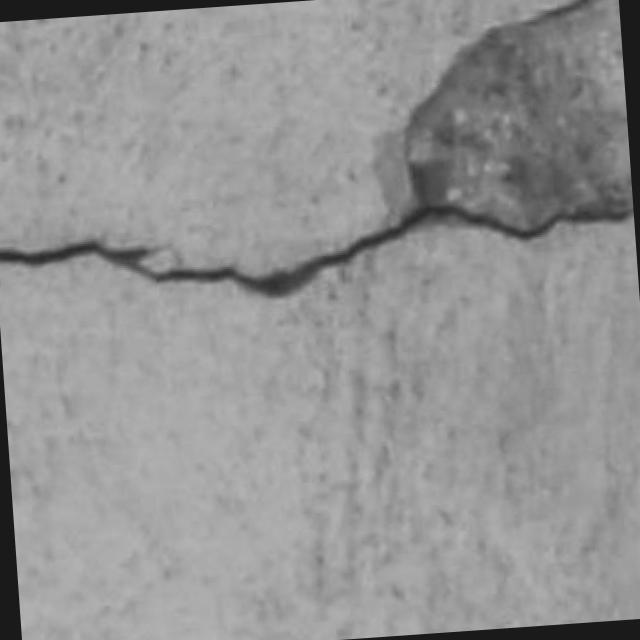crack: (0, 207, 627, 298), (406, 0, 633, 232)
